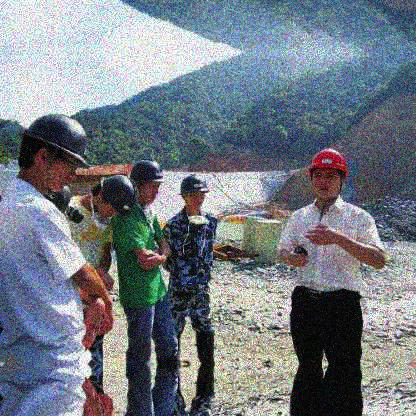helmet: (20, 114, 90, 192), (305, 147, 350, 202), (93, 175, 136, 220), (129, 160, 166, 208), (178, 175, 210, 207)
